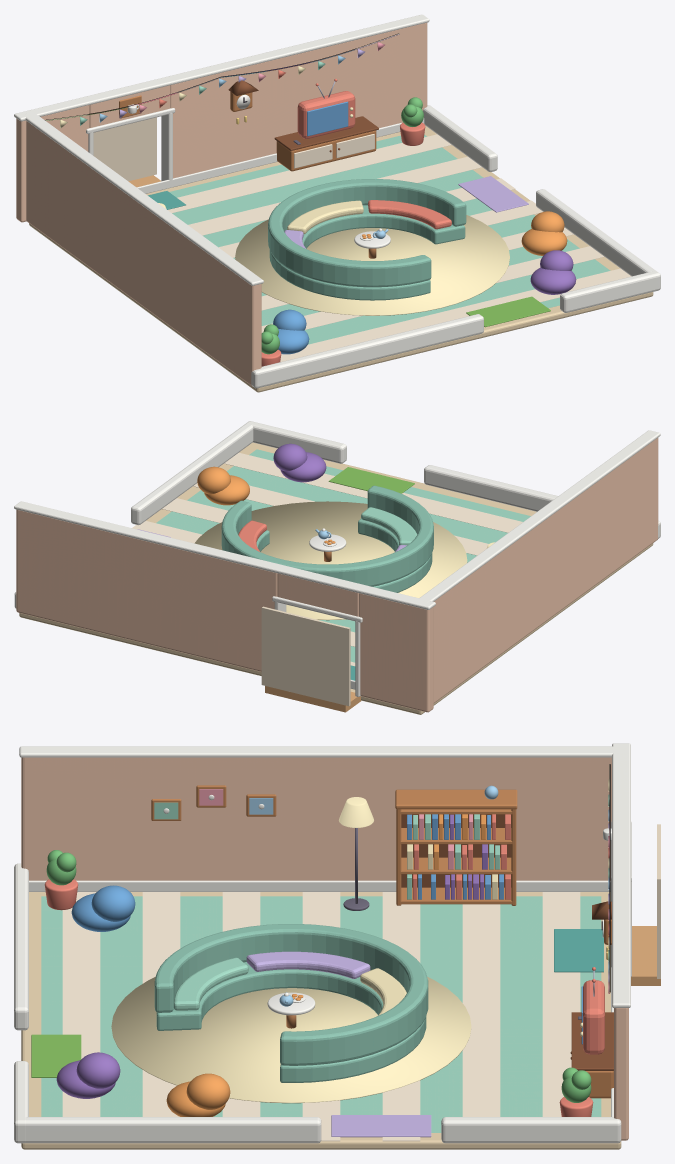
File: room_living.glb
The picture shows the model from 3 angles, top to bottom: view 1: azimuth 30°, elevation 25°; view 2: azimuth 150°, elevation 25°; view 3: azimuth 270°, elevation 25°; orthographic projection. The views are drawn at different scales.
Parts seen in each view (by area): view 1: wall_W_0, wall_N_1, rug_ring, NAV_floor, sofa_back, wall_S_low_0, sofa_base, floor, wall_N_cap, floor_plank_13, wall_W_cap, floor_plank_1 (+29 smaller); view 2: wall_N_1, wall_W_0, rug_ring, wall_N_0, doorway_N_view, sofa_back, NAV_floor, wall_N_cap, floor, wall_W_cap, wall_E_low_0, floor_plank_1 (+18 smaller); view 3: wall_W_0, NAV_floor, rug_ring, sofa_back, floor, floor_plank_11, wall_E_low_0, sofa_base, wall_W_cap, floor_plank_13, floor_plank_1, wall_W_skirting (+39 smaller).
Part boxes in pixels (x1=…): wall_W_0: x1=26, y1=121, x2=261, y2=386; wall_N_1: x1=170, y1=22, x2=427, y2=178; rug_ring: x1=235, y1=215, x2=509, y2=315; NAV_floor: x1=169, y1=134, x2=610, y2=344; sofa_back: x1=268, y1=179, x2=466, y2=287; wall_S_low_0: x1=251, y1=314, x2=483, y2=388; sofa_base: x1=269, y1=205, x2=465, y2=300; floor: x1=29, y1=126, x2=653, y2=392; wall_N_cap: x1=14, y1=14, x2=429, y2=121; floor_plank_13: x1=168, y1=134, x2=451, y2=213; wall_W_cap: x1=23, y1=112, x2=263, y2=285; floor_plank_1: x1=280, y1=268, x2=631, y2=361; wall_N_1: x1=16, y1=509, x2=277, y2=671; wall_W_0: x1=433, y1=438, x2=658, y2=703; rug_ring: x1=194, y1=501, x2=467, y2=620; wall_N_0: x1=359, y1=593, x2=433, y2=712; doorway_N_view: x1=261, y1=606, x2=350, y2=706; sofa_back: x1=221, y1=485, x2=433, y2=586; NAV_floor: x1=156, y1=449, x2=530, y2=662; wall_N_cap: x1=14, y1=501, x2=435, y2=609; floor: x1=19, y1=442, x2=653, y2=714; wall_W_cap: x1=417, y1=430, x2=660, y2=602; wall_E_low_0: x1=131, y1=423, x2=253, y2=525; floor_plank_1: x1=224, y1=452, x2=522, y2=532; wall_W_0: x1=21, y1=757, x2=611, y2=880; NAV_floor: x1=41, y1=896, x2=601, y2=1132; rug_ring: x1=111, y1=977, x2=471, y2=1103; sofa_back: x1=154, y1=924, x2=428, y2=1065; floor: x1=21, y1=892, x2=621, y2=1149; floor_plank_11: x1=462, y1=904, x2=500, y2=1116; wall_E_low_0: x1=25, y1=1117, x2=321, y2=1143; sofa_base: x1=156, y1=962, x2=426, y2=1082; wall_W_cap: x1=19, y1=746, x2=621, y2=757; floor_plank_13: x1=542, y1=892, x2=580, y2=1116; floor_plank_1: x1=62, y1=892, x2=100, y2=1116; wall_W_skirting: x1=29, y1=880, x2=610, y2=891.
Bounding box in the file's own units: 6.25 × 1.63 × 6.47.
2 materials, 2 textured.
